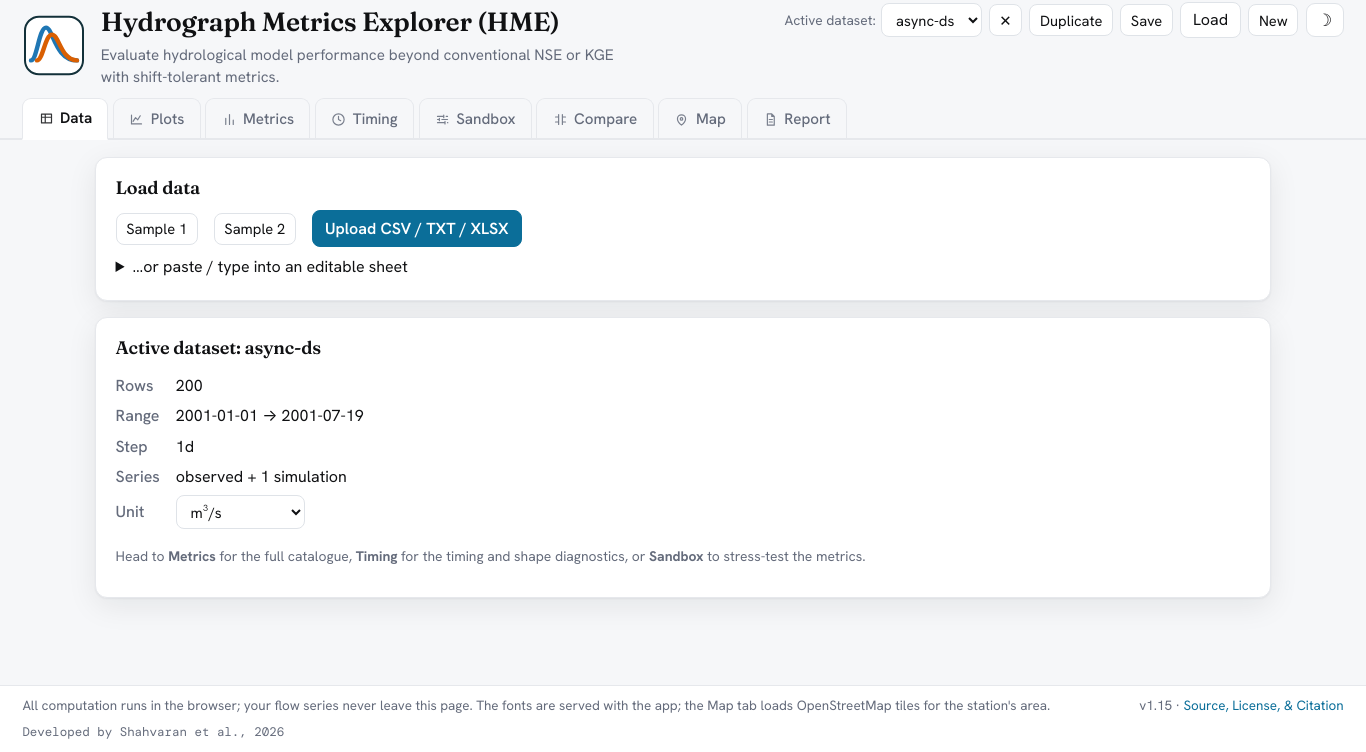
Scenario: async pending → ready transitions (S1 regression) › Timing tab survives the worker round-trip
This screenshot has width=1366, height=752.
Click the tab "Timing". click: (364, 119)
box: [315,98,414,140]
(page scrolled)
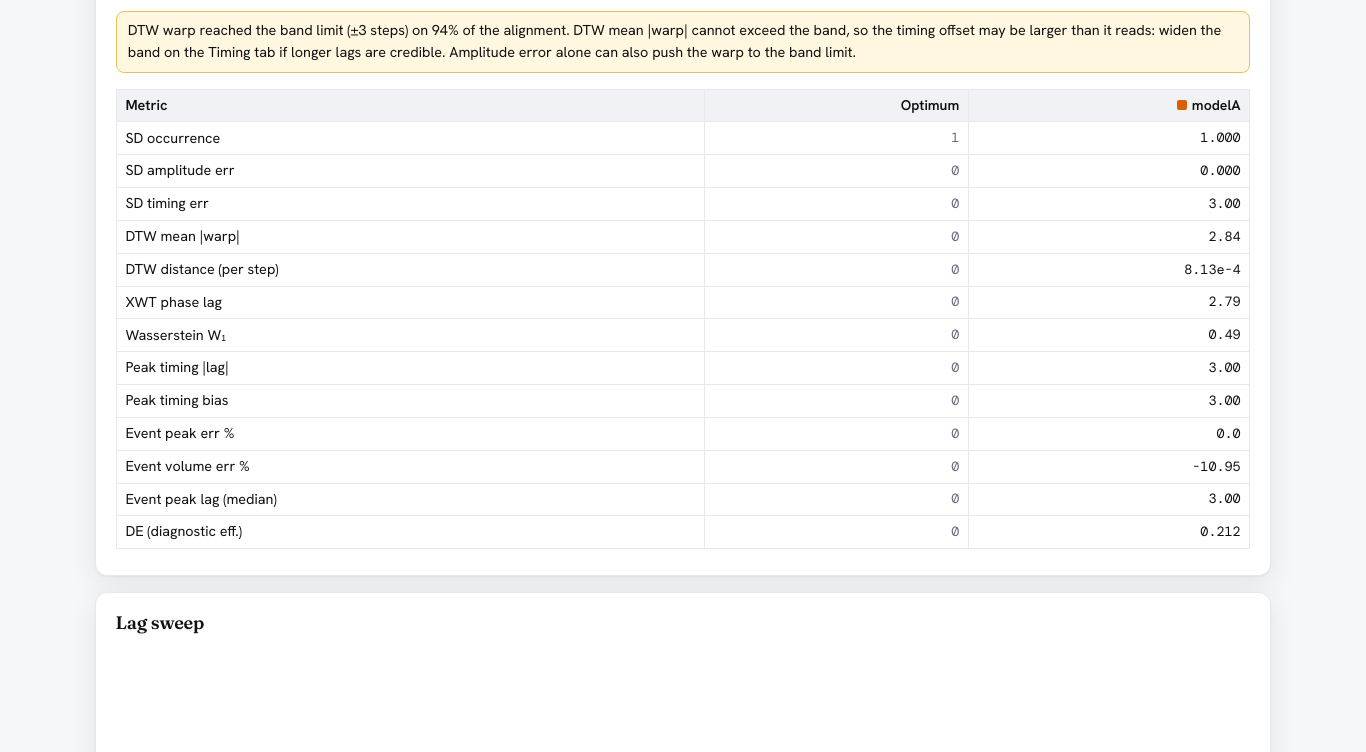
Now the text "Peak timing |lag|" is shown, box [116,352,704,384]
